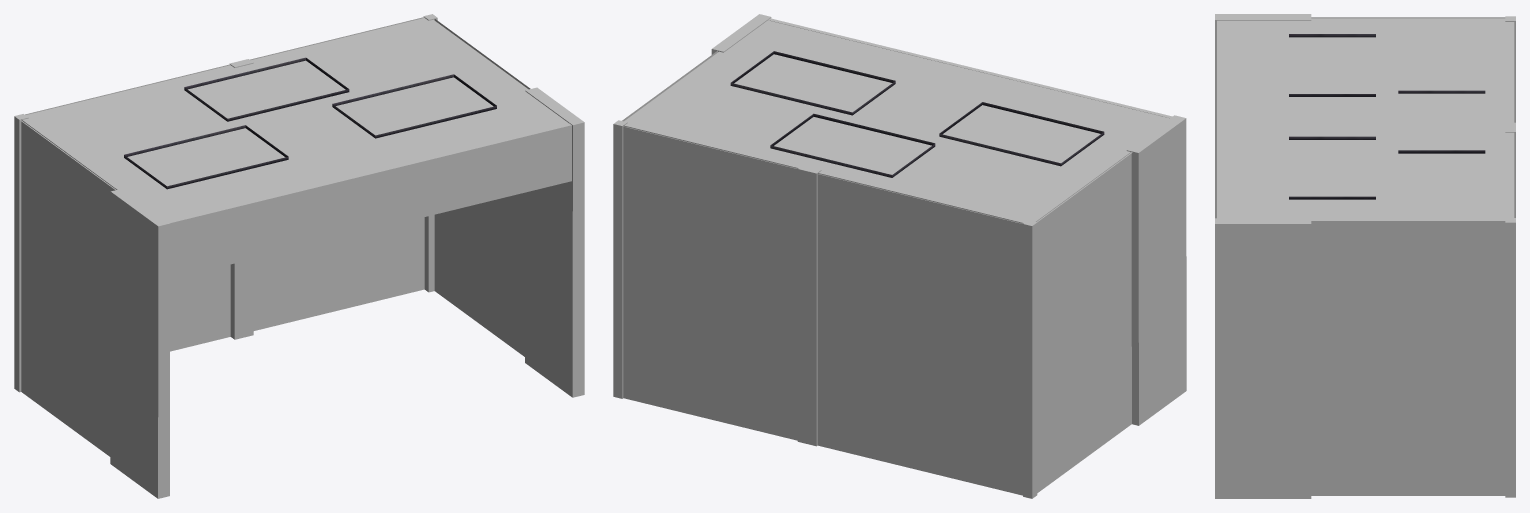
The model's file is shop_23b.fbx.
3 renders of one model, left to right at view 1: azimuth 30°, elevation 25°; view 2: azimuth 150°, elevation 25°; view 3: azimuth 270°, elevation 25°, orthographic.
Visible parts, largest first — view 1: shop_23b; view 2: shop_23b; view 3: shop_23b.
Boxes of the visible parts, left/top/right/bottom form: shop_23b: left=14, top=14, right=584, bottom=498; shop_23b: left=613, top=14, right=1186, bottom=498; shop_23b: left=1215, top=14, right=1515, bottom=498.
Bounding box in the file's own units: 5.25 × 3.23 × 3.18.
